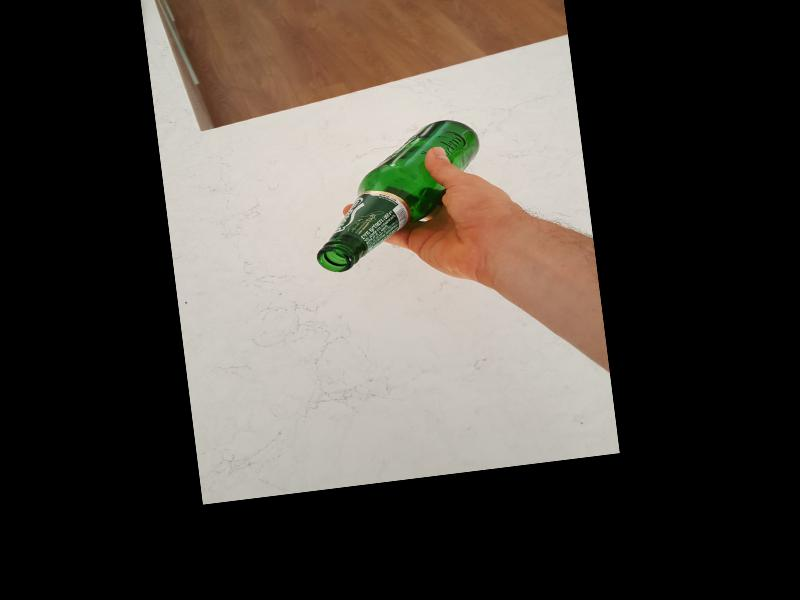Beer: (300, 117, 491, 277)
